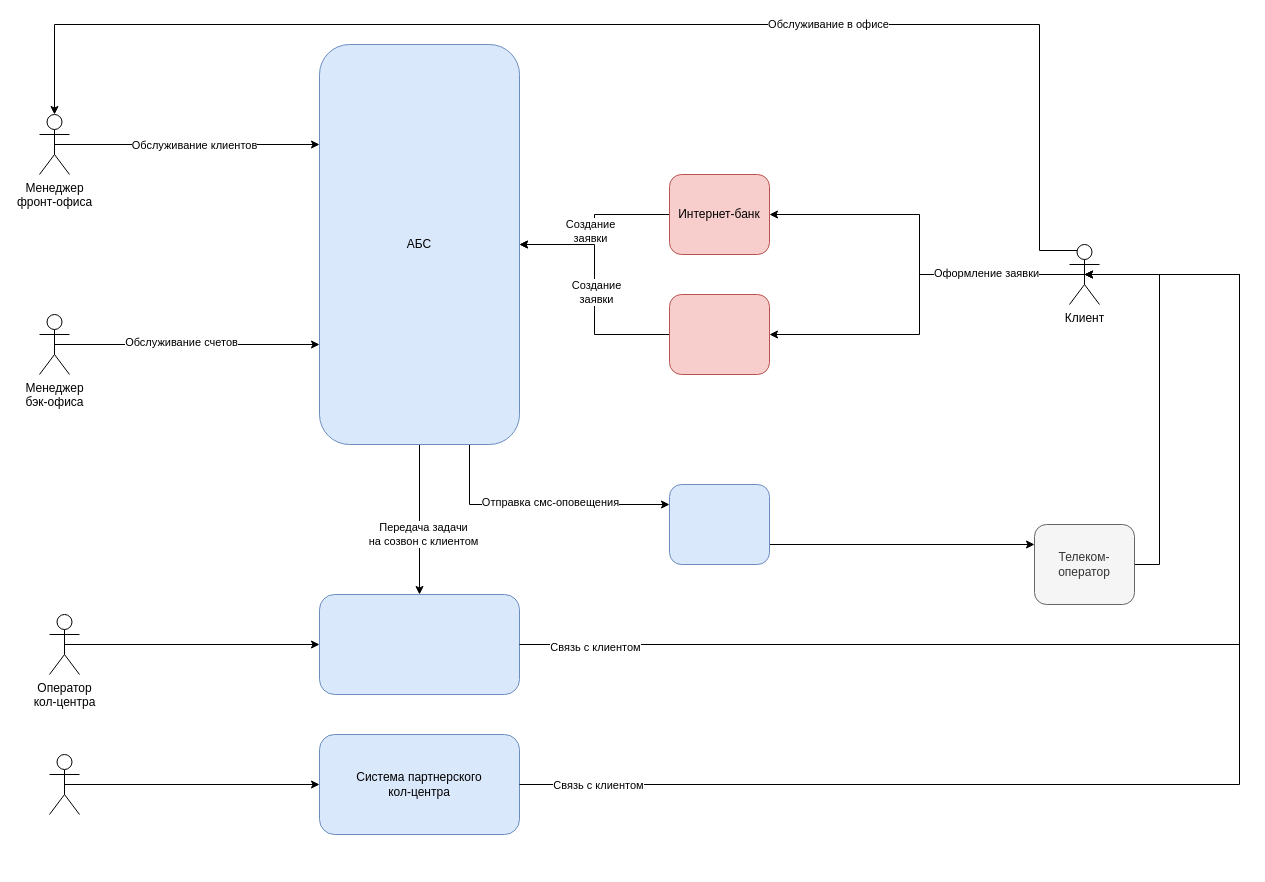
This 1265x882 diagram has some shape labels left out. The shapes that lost their labels are listed below. From the top down, each one's centre as x and y in pixels, then its label:
point 719,334: Сайт
point 719,524: СМС-шлюз телеком-оператора
point 419,644: Система кол-центра
point 64,784: Оператор партнерского кол-центра
